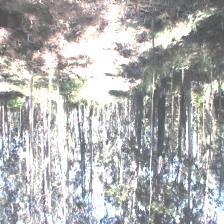trunktrack_idkeyframe: (157, 90, 166, 145), (29, 72, 35, 146)
